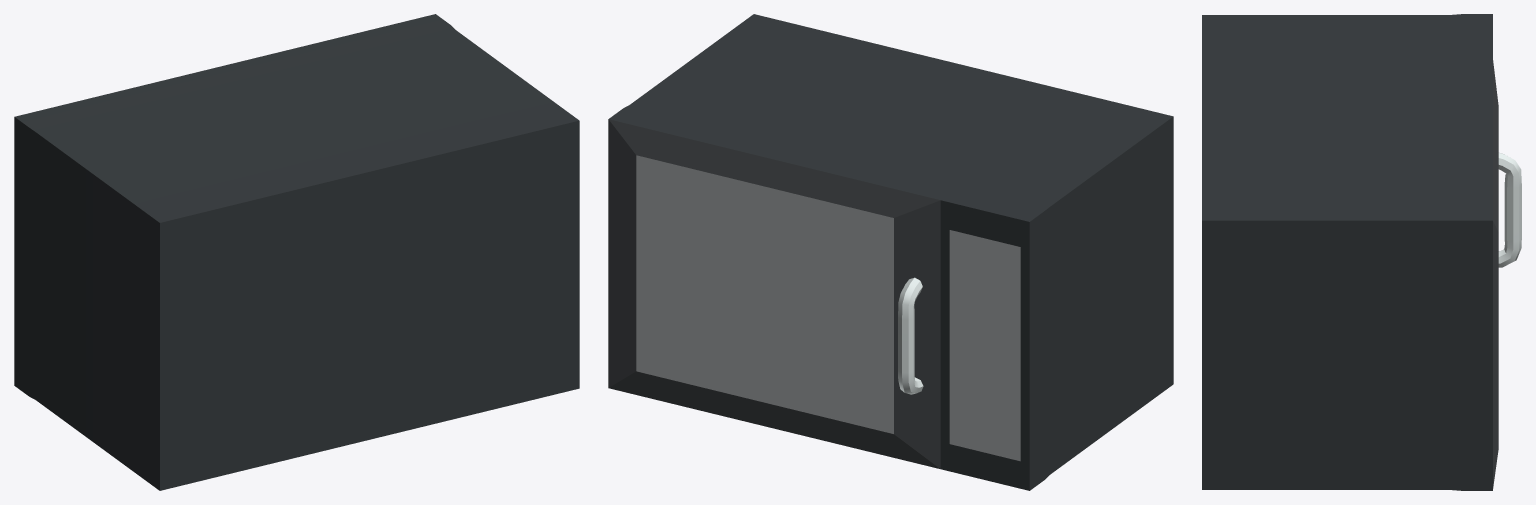
The model's file is microwave.fbx.
3 views of the same model, side by side, from view 1: azimuth 30°, elevation 25°; view 2: azimuth 150°, elevation 25°; view 3: azimuth 270°, elevation 25° (orthographic).
Visible parts, largest first — view 1: microwave; view 2: microwave; view 3: microwave.
Boxes of the visible parts, x1=… form: microwave: x1=14, y1=14, x2=579, y2=490; microwave: x1=608, y1=14, x2=1173, y2=490; microwave: x1=1202, y1=14, x2=1521, y2=490.
Bounding box in the file's own units: 3.29 × 2.01 × 2.15.
Materials: 1 (1 with a texture image).
